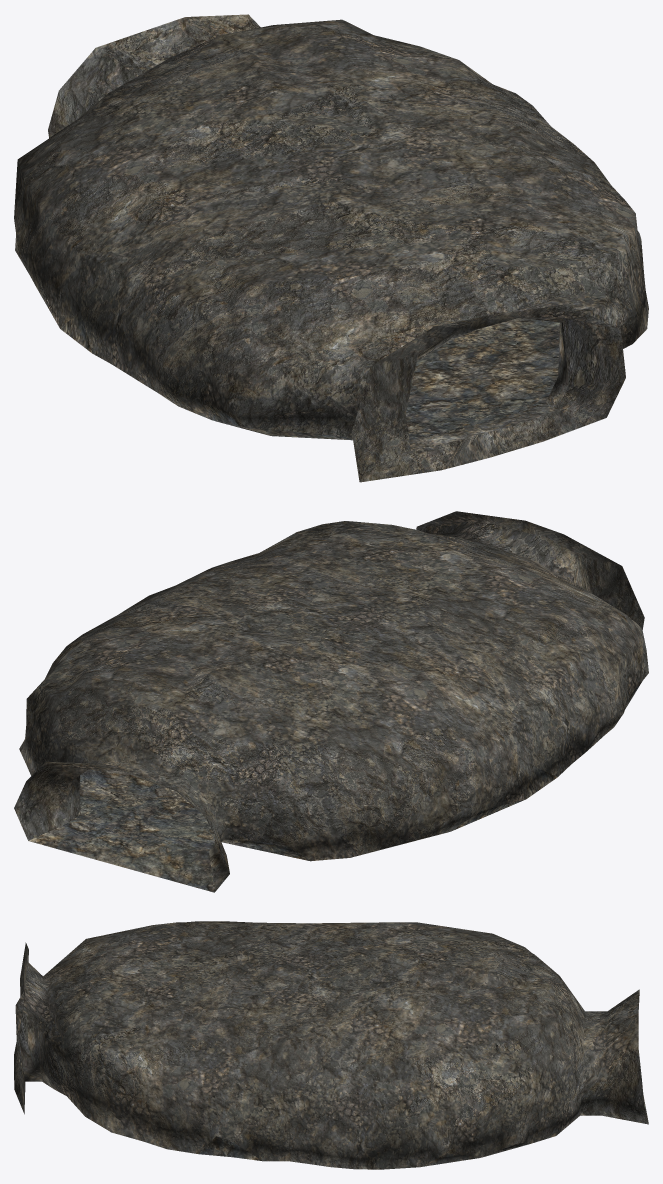
The model's file is TutorialCave1.fbx.
3 renders of one model, top to bottom at view 1: azimuth 30°, elevation 25°; view 2: azimuth 150°, elevation 25°; view 3: azimuth 270°, elevation 25°, orthographic. The views are drawn at different scales.
Parts seen in each view (by area): view 1: Cave14:tutorial_level; view 2: Cave14:tutorial_level; view 3: Cave14:tutorial_level.
Part boxes in pixels (box(x1,y1,x2,y2)): Cave14:tutorial_level: box(14, 14, 648, 482); Cave14:tutorial_level: box(14, 511, 648, 892); Cave14:tutorial_level: box(14, 921, 648, 1169).
Bounding box in the file's own units: 1130 × 342 × 1536.
